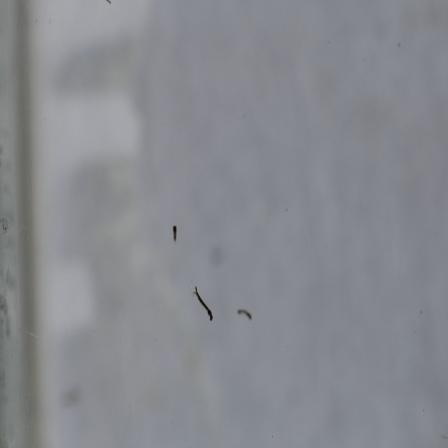Jentik-Nyamuk: (190, 285, 217, 326), (234, 305, 254, 322), (168, 223, 182, 245)
